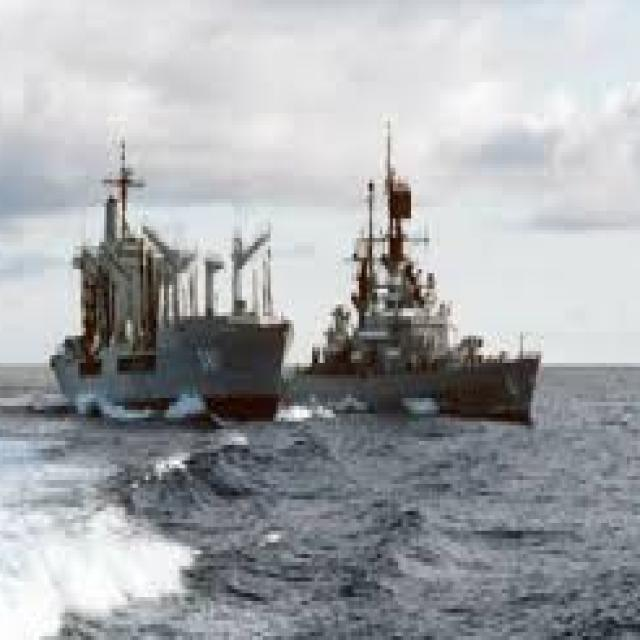navalvessels: (22, 122, 299, 444), (311, 146, 546, 404)
